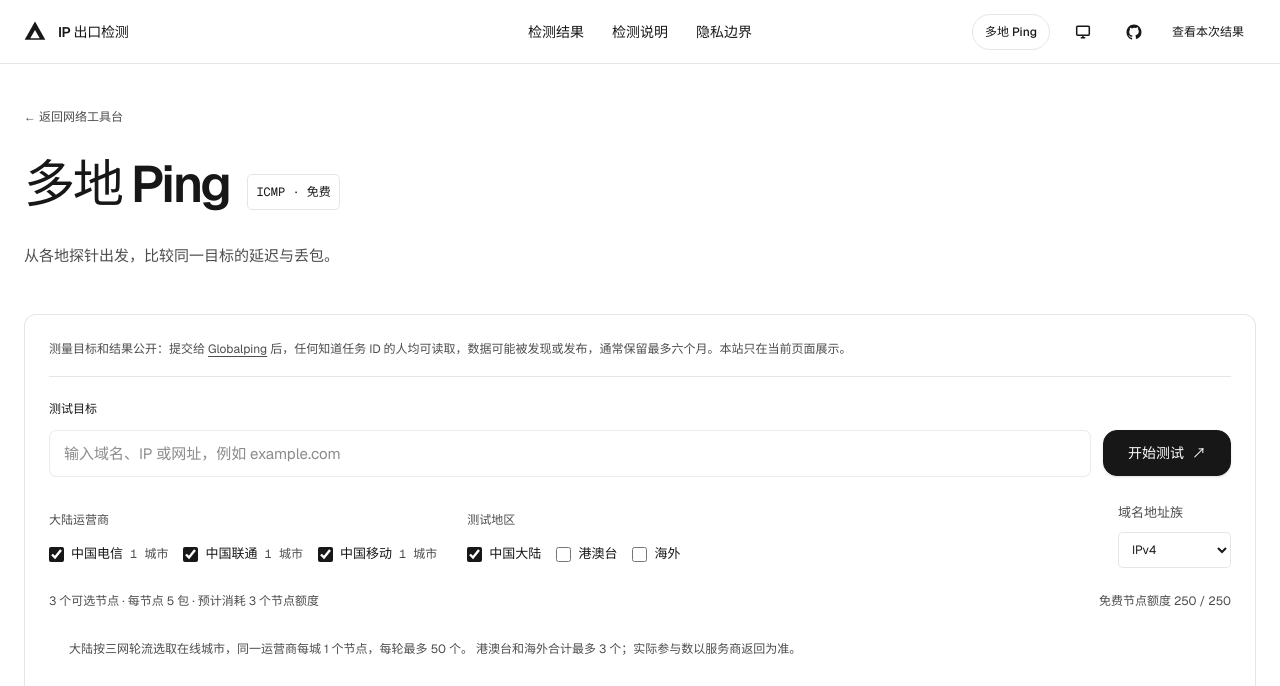
Test: 多地 Ping 独立页面 › 缺少探针元数据时保留无法判断数量，不伪造身份或地图位置
The image size is (1280, 686).
expect the text "3 个可选节点 · 每节点 5 包 · 预计消耗 3 个节点额度" is shown: met, box [49,590,319,614]
Type "example.com" into the field labelled "测试目标". click: (570, 454)
box: [49,430,1091,478]
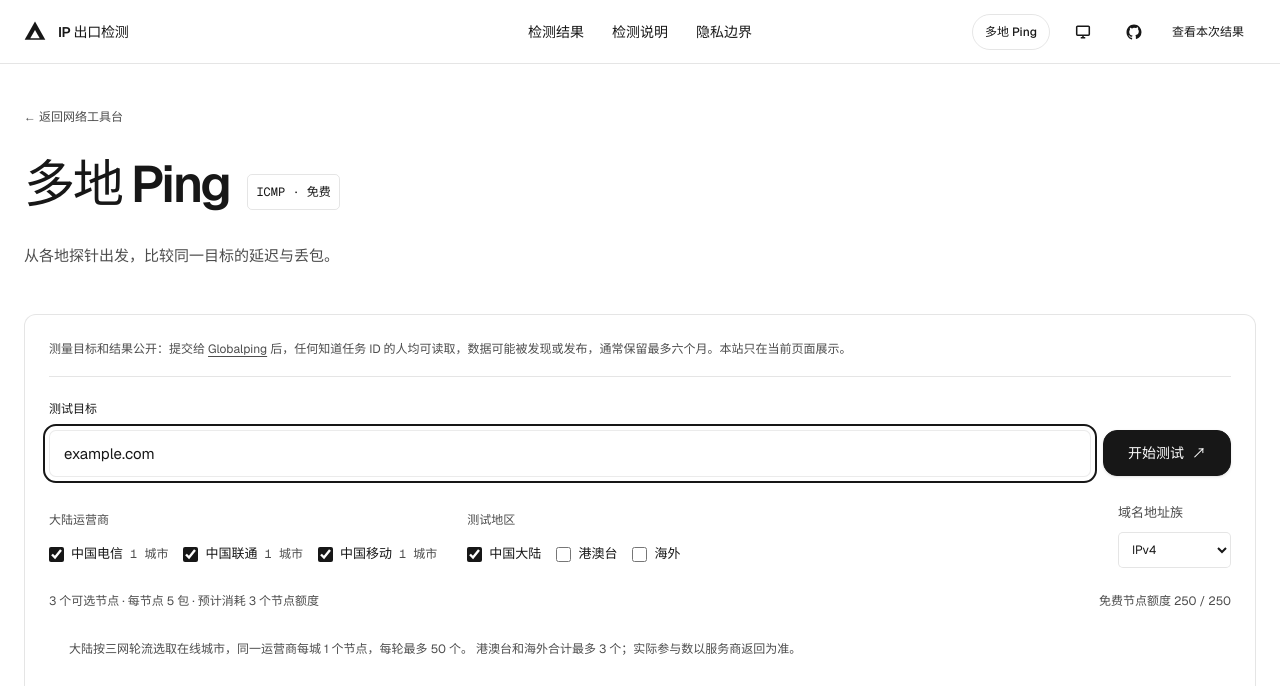
Click the button "开始测试 ↗". click: (1167, 454)
box: [1103,430,1231,476]
(page scrolled)
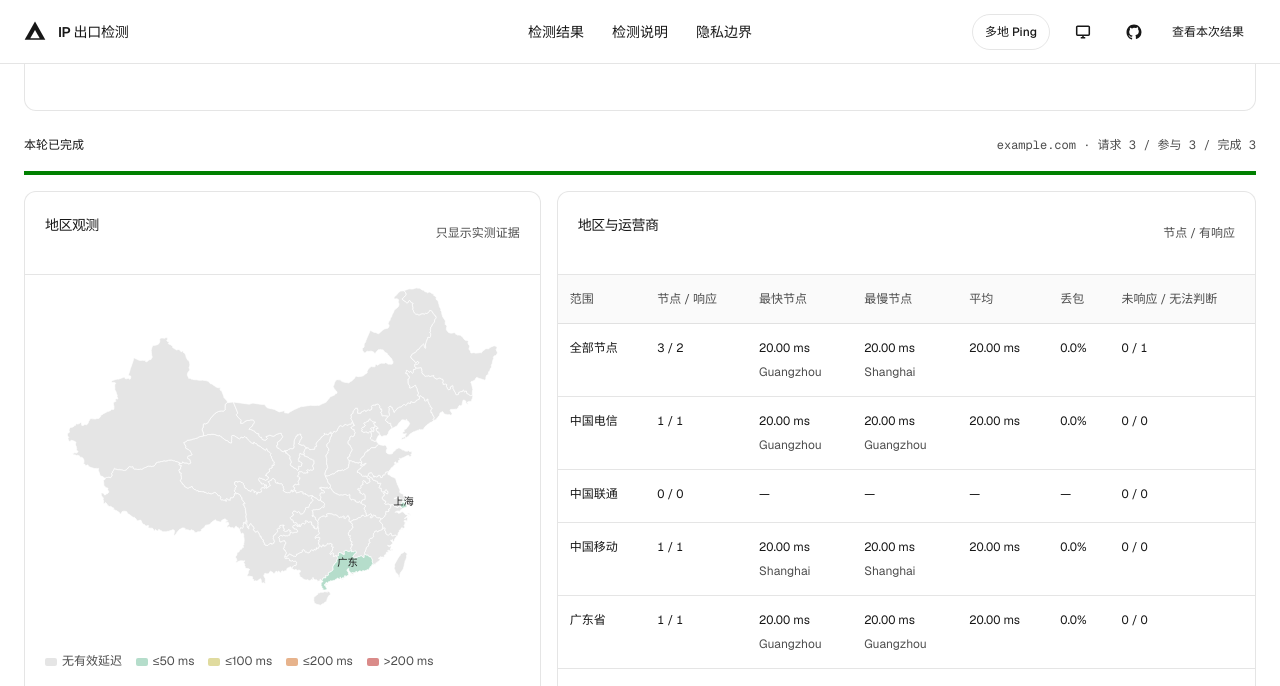
expect the text "本轮已完成" is shown: met, box [24,135,84,156]
expect the text "3 / 2" is shown: met, box [645,324,747,397]
expect the text "0 / 1" is shown: met, box [1110,324,1255,397]
